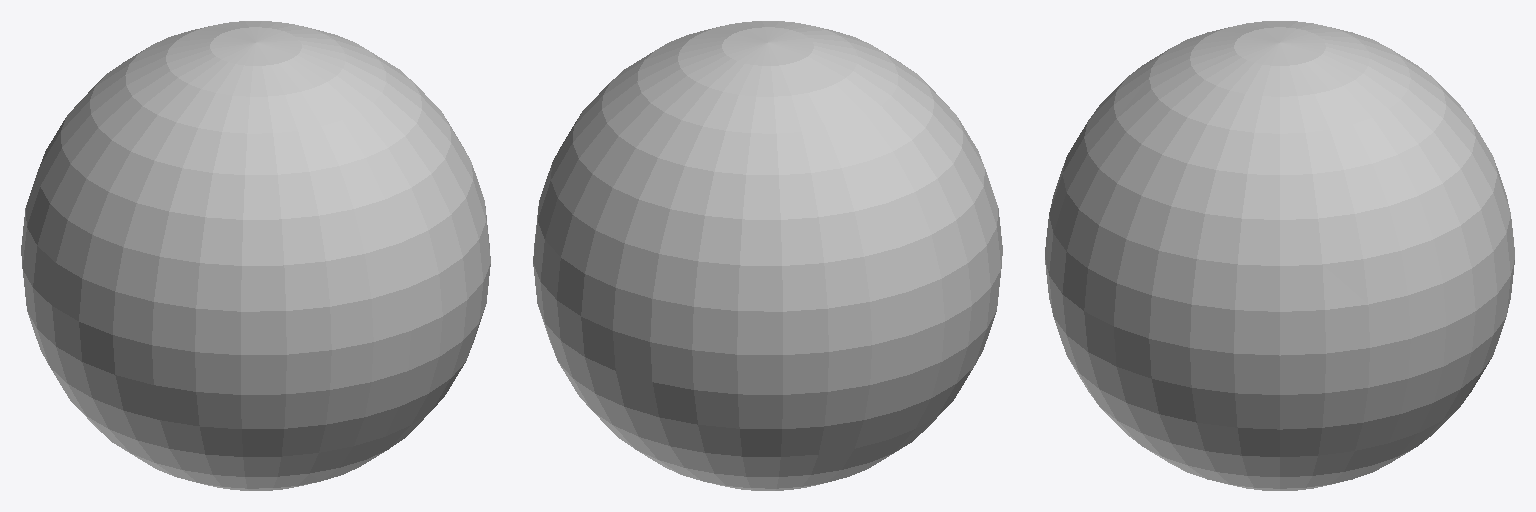
The model's file is Venus.obj.
3 renders of one model, left to right at view 1: azimuth 30°, elevation 25°; view 2: azimuth 150°, elevation 25°; view 3: azimuth 270°, elevation 25°, orthographic.
Parts seen in each view (by area): view 1: Sphere; view 2: Sphere; view 3: Sphere.
Part boxes in pixels (bbox=[...]): Sphere: bbox=[21, 21, 490, 490]; Sphere: bbox=[533, 21, 1002, 490]; Sphere: bbox=[1045, 21, 1514, 490].
Bounding box in the file's own units: 0.18 × 0.18 × 0.18.